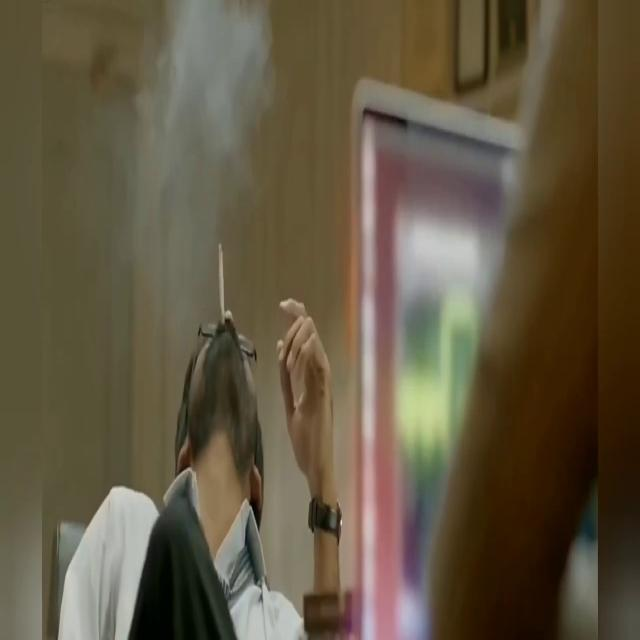smoking: (147, 38, 280, 396)
